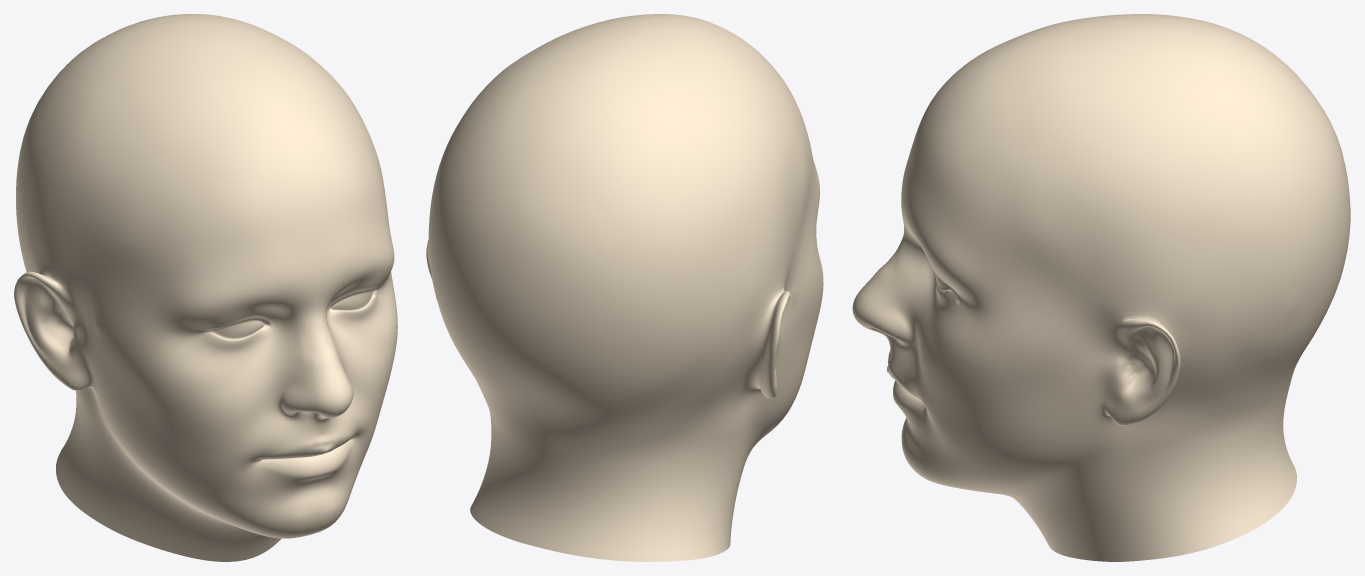
3 renders of one model, left to right at view 1: azimuth 30°, elevation 25°; view 2: azimuth 150°, elevation 25°; view 3: azimuth 270°, elevation 25°, orthographic. The views are drawn at different scales.
Visible parts, largest first — view 1: FaceBuilderHead; view 2: FaceBuilderHead; view 3: FaceBuilderHead.
Boxes of the visible parts, <box> form: FaceBuilderHead: <box>14,14,397,561</box>; FaceBuilderHead: <box>426,14,823,561</box>; FaceBuilderHead: <box>852,14,1350,561</box>.
Size of the model in its own units: 180 by 249 by 220.
